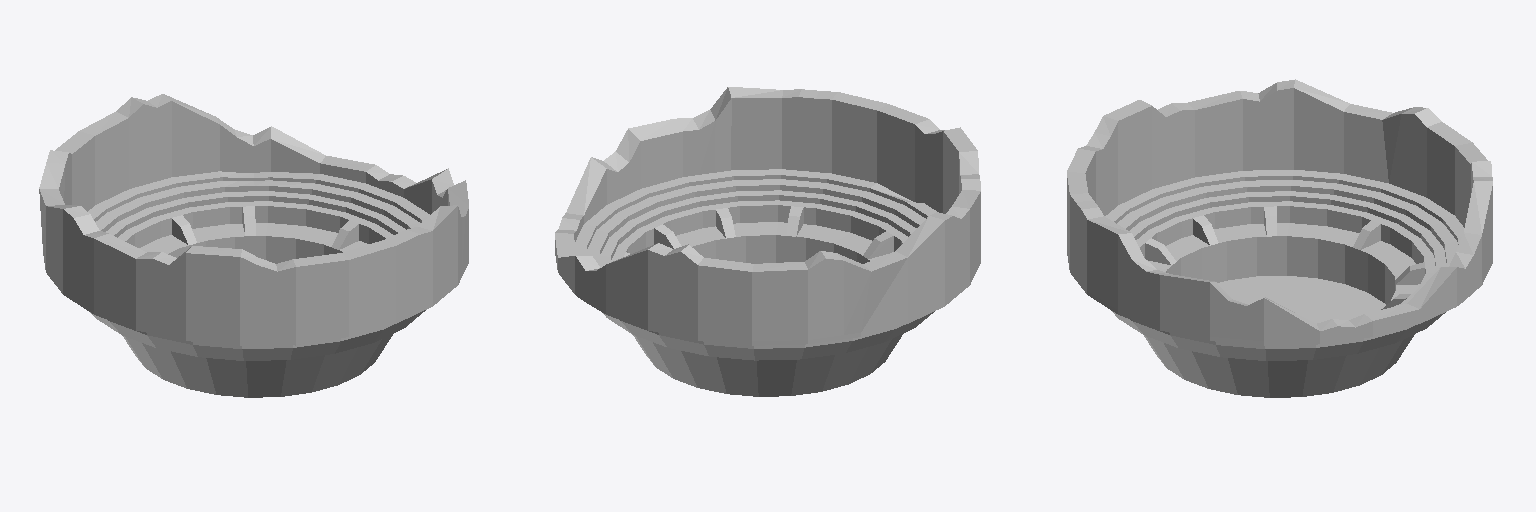
The model's file is arena_2.obj.
The picture shows the model from 3 angles: view 1: azimuth 30°, elevation 25°; view 2: azimuth 150°, elevation 25°; view 3: azimuth 270°, elevation 25°; orthographic projection.
Parts seen in each view (by area): view 1: Grid; view 2: Grid; view 3: Grid.
Boxes of the visible parts, x1,y1,x2,y2 form: Grid: [39, 94, 468, 397]; Grid: [555, 87, 980, 396]; Grid: [1067, 79, 1492, 397].
Size of the model in its own units: 202 by 93.27 by 202.